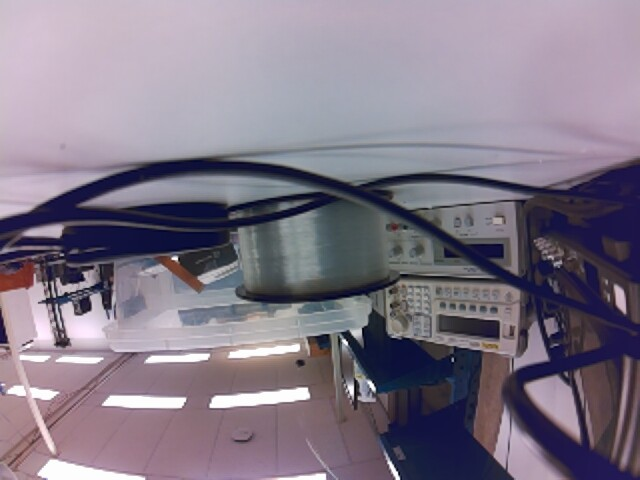mosquito: (294, 357, 306, 370)
